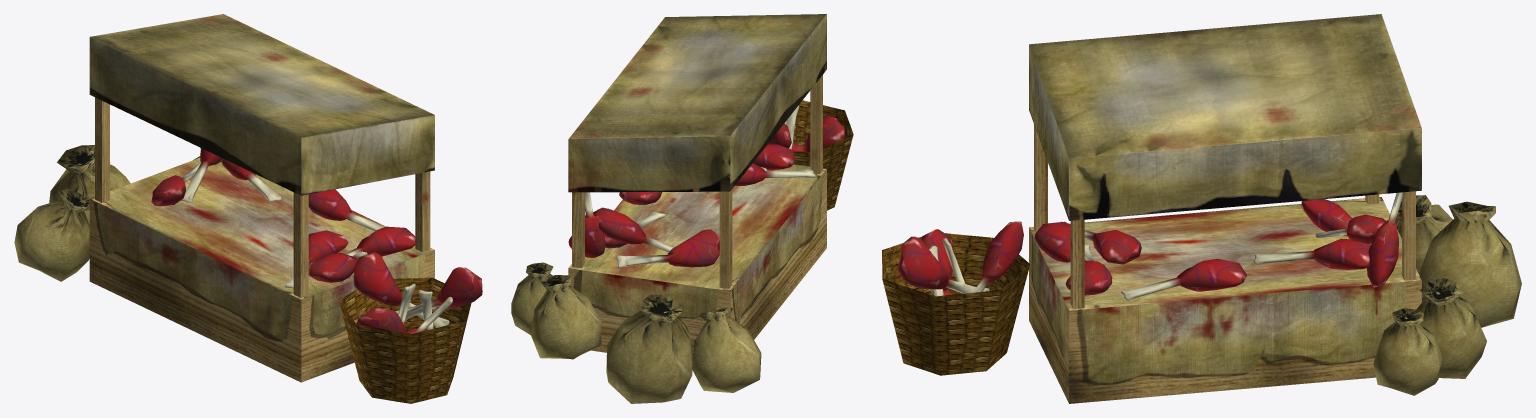
Rendered from meat_store02.fbx.
The picture shows the model from 3 angles, left to right: view 1: azimuth 30°, elevation 25°; view 2: azimuth 150°, elevation 25°; view 3: azimuth 270°, elevation 25°; orthographic projection. The views are drawn at different scales.
Parts seen in each view (by area): view 1: stand_meat_10, basket_10, bag_40, bag_37, meat_129, meat_128, meat_140, meat_138, meat_137, meat_139, meat_134, meat_127 (+2 smaller); view 2: stand_meat_10, bag_37, bag_38, bag_40, basket_10, meat_134, bag_39, meat_133, meat_135, meat_137, meat_139, meat_127 (+3 smaller); view 3: stand_meat_10, basket_10, bag_37, bag_38, bag_39, meat_138, meat_128, meat_136, meat_135, meat_129, bag_40, meat_139 (+5 smaller).
Part boxes in pixels (x1,y1,x2,y2): stand_meat_10: (89,14,434,382); basket_10: (339,277,471,403); bag_40: (14,188,89,281); bag_37: (49,145,130,258); meat_129: (353,252,449,327); meat_128: (395,267,482,320); meat_140: (344,226,416,256); meat_138: (308,189,385,231); meat_137: (308,251,367,282); meat_139: (285,230,348,288); meat_134: (151,163,200,206); meat_127: (356,307,406,332); stand_meat_10: (568,14,826,359); bag_37: (606,294,692,403); bag_38: (531,275,601,359); bag_40: (692,307,761,392); basket_10: (793,100,853,210); meat_134: (616,229,719,268); bag_39: (511,262,553,334); meat_133: (593,207,674,252); meat_135: (568,192,605,257); meat_137: (753,144,795,170); meat_139: (735,163,815,185); meat_127: (803,115,845,151); stand_meat_10: (1029,14,1421,403); basket_10: (882,233,1030,375); bag_37: (1419,201,1521,327); bag_38: (1416,278,1486,378); bag_39: (1373,308,1442,395); meat_138: (1120,259,1246,300); meat_128: (897,236,989,293); meat_136: (1253,238,1370,269); meat_135: (1367,192,1402,287); meat_129: (973,221,1023,292); bag_40: (1395,195,1452,273); meat_139: (1060,221,1141,264).
Size of the model in its own units: 63.25 by 58.16 by 117.
